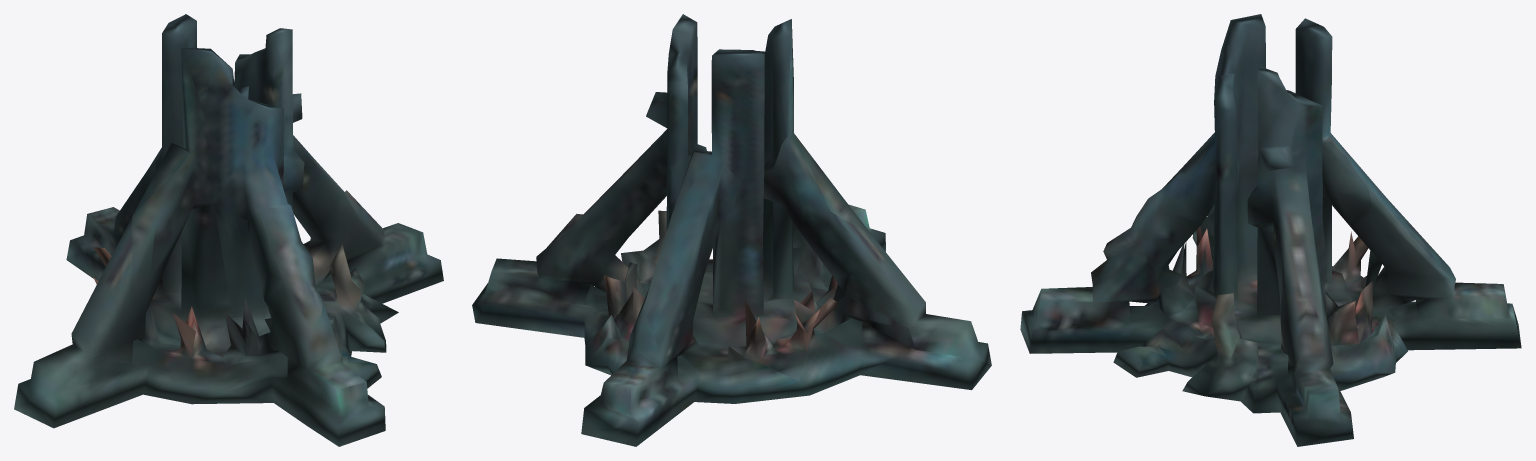
Rendered from Decorativo_lado_Poseidon_y_Altar_Agua.glb.
The picture shows the model from 3 angles, left to right: view 1: azimuth 30°, elevation 25°; view 2: azimuth 150°, elevation 25°; view 3: azimuth 270°, elevation 25°; orthographic projection. The views are drawn at different scales.
Visible parts, largest first — view 1: Decorativo lado Poseidon y Altar Agua; view 2: Decorativo lado Poseidon y Altar Agua; view 3: Decorativo lado Poseidon y Altar Agua.
Boxes of the visible parts, x1,y1,x2,y2 form: Decorativo lado Poseidon y Altar Agua: (14, 14, 443, 446); Decorativo lado Poseidon y Altar Agua: (472, 14, 991, 446); Decorativo lado Poseidon y Altar Agua: (1020, 14, 1521, 446).
Size of the model in its own units: 0.1412 by 0.0939 by 0.1408.
Materials: 1 (1 with a texture image).
